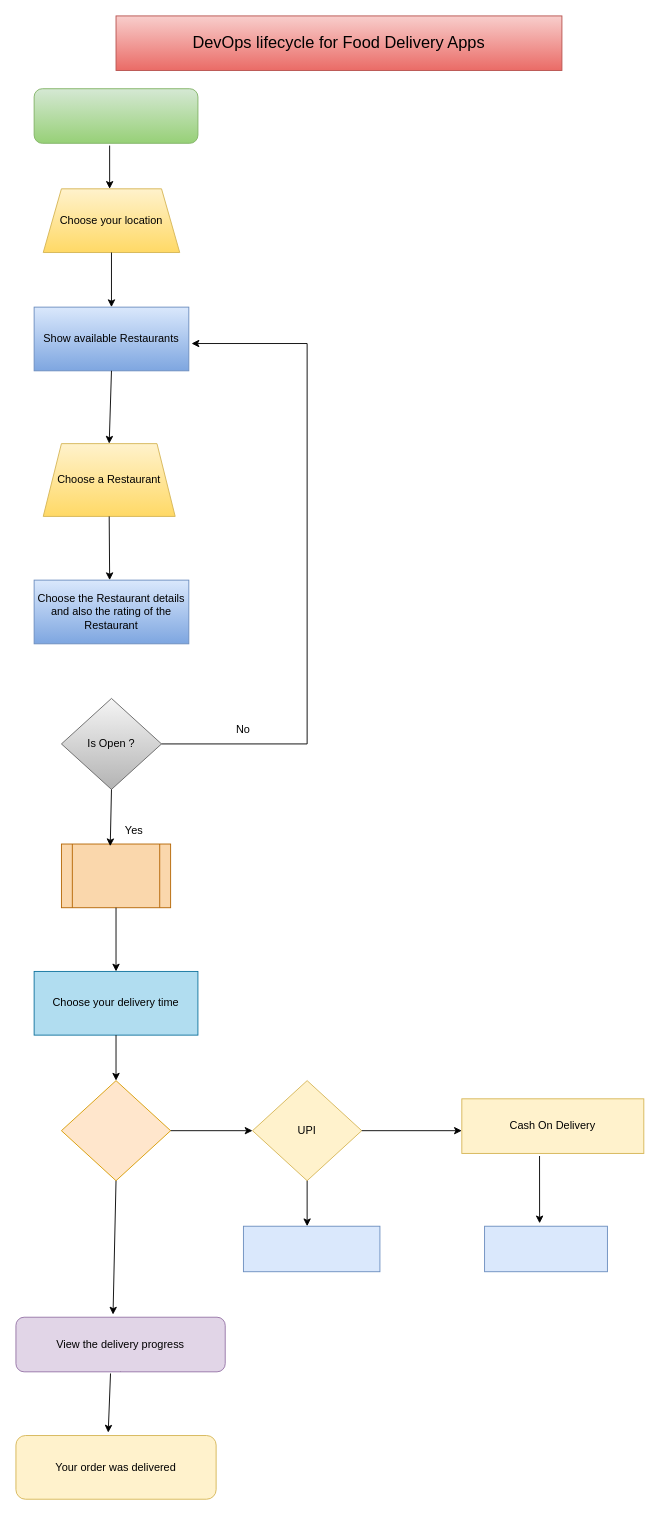
Image size: 660x1515. Some labels were removed from this diagram. The shapes that lost their labels are listed below. From the top down, each one's centre as x and y in pixels, then its label:
[115,115]: Start
[116,875]: Choose your menu
[116,1130]: Select the payment method
[311,1248]: Pay
[545,1248]: Select it
